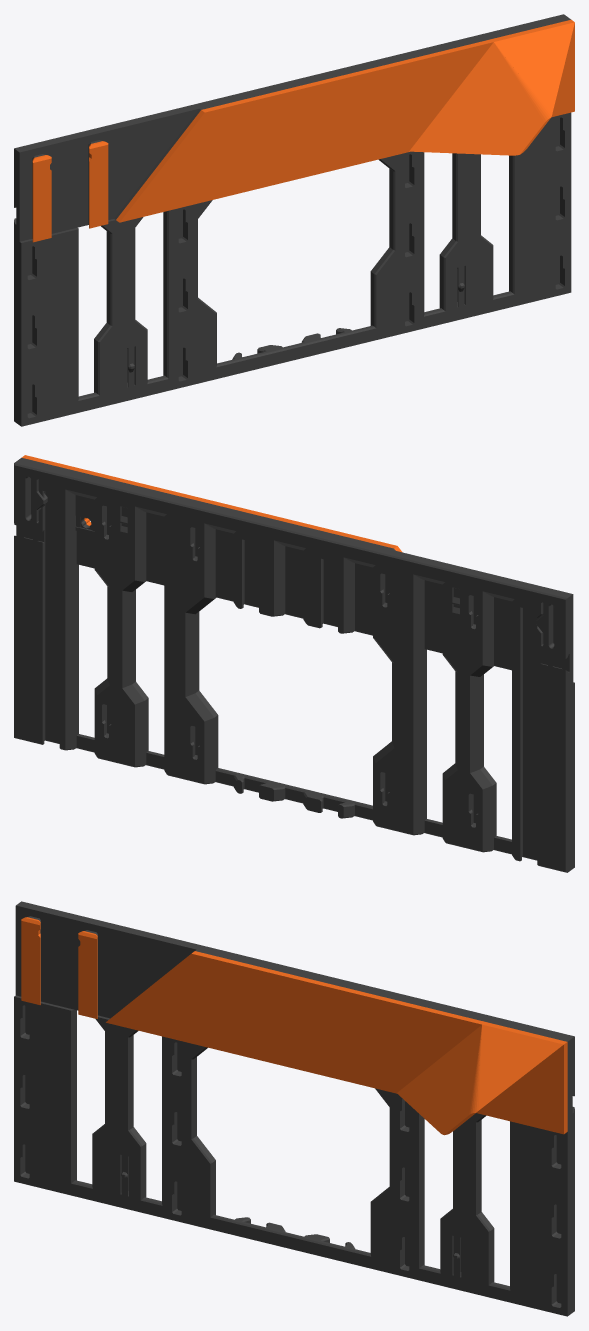
The model's file is Faceplate_EdgeLabel_2W-15H.lib.glb.
The picture shows the model from 3 angles, top to bottom: view 1: azimuth 30°, elevation 25°; view 2: azimuth 150°, elevation 25°; view 3: azimuth 330°, elevation 25°; orthographic projection.
Parts seen in each view (by area): view 1: Faceplate_EdgeLabel_2W-15H; view 2: Faceplate_EdgeLabel_2W-15H; view 3: Faceplate_EdgeLabel_2W-15H.
Boxes of the visible parts, x1=… form: Faceplate_EdgeLabel_2W-15H: x1=14, y1=14, x2=574, y2=426; Faceplate_EdgeLabel_2W-15H: x1=14, y1=455, x2=574, y2=872; Faceplate_EdgeLabel_2W-15H: x1=14, y1=901, x2=574, y2=1316.
Bounding box in the file's own units: 175 × 83 × 24.1.
